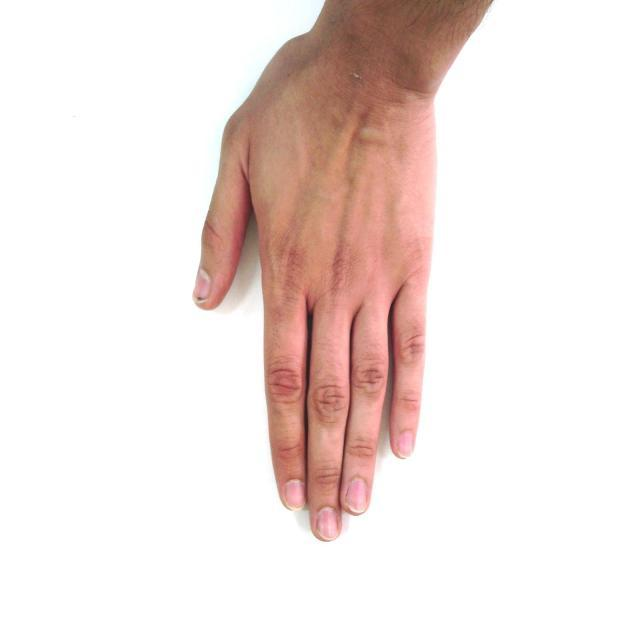Fingernail: (316, 508, 340, 540), (347, 478, 367, 513), (285, 481, 305, 509), (194, 270, 210, 300), (397, 431, 413, 458)
